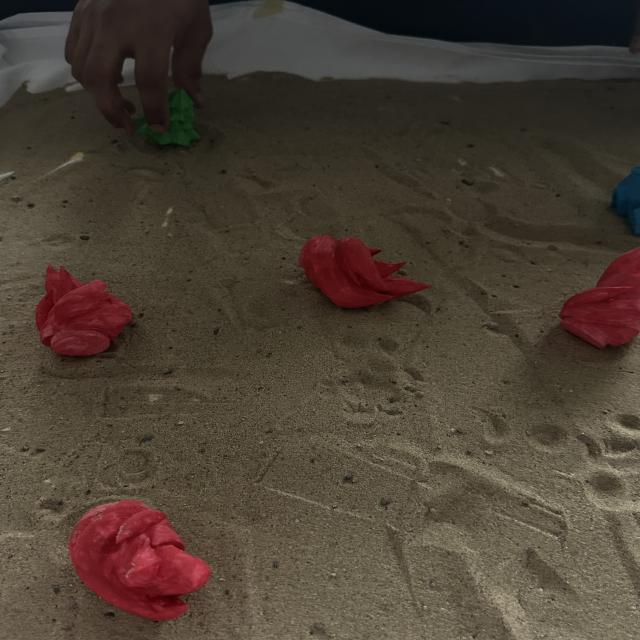fire: (66, 498, 213, 622), (296, 230, 428, 309), (34, 267, 134, 358), (563, 246, 640, 348)
house: (611, 161, 640, 236)
tree: (131, 85, 204, 149)
